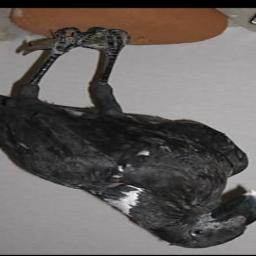Crow: (0, 26, 256, 249)
